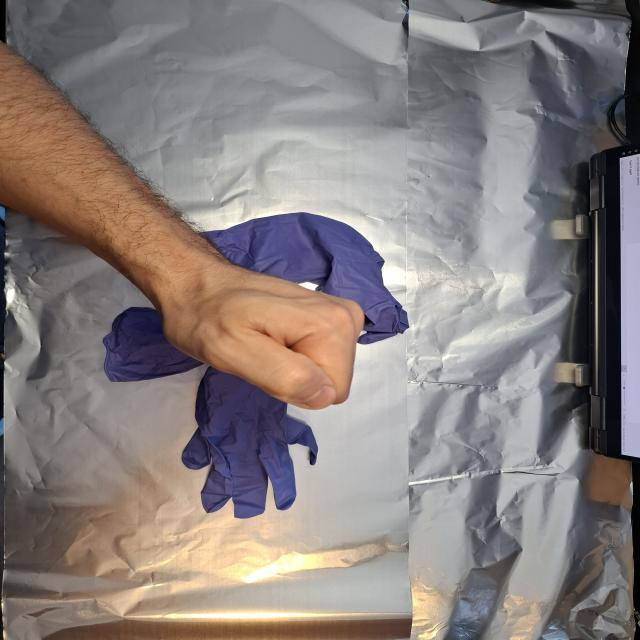glove_off: (154, 248, 368, 412)
